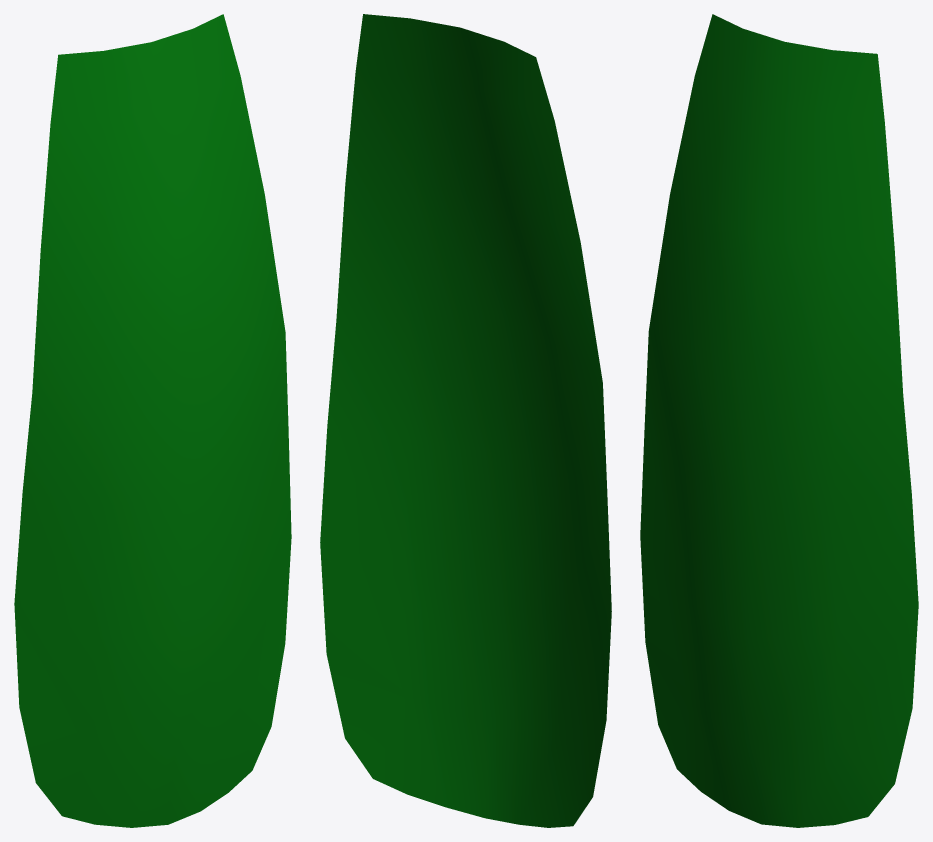
The model's file is MD_nail_square_HandR.Ring.fbx.
3 renders of one model, left to right at view 1: azimuth 30°, elevation 25°; view 2: azimuth 150°, elevation 25°; view 3: azimuth 330°, elevation 25°, orthographic. The views are drawn at different scales.
Visible parts, largest first — view 1: MD_nail_square_HandR.Ring; view 2: MD_nail_square_HandR.Ring; view 3: MD_nail_square_HandR.Ring.
Part boxes in pixels (<box>): MD_nail_square_HandR.Ring: <box>14,14,291,827</box>; MD_nail_square_HandR.Ring: <box>320,14,611,827</box>; MD_nail_square_HandR.Ring: <box>640,14,918,827</box>.
Size of the model in its own units: 0.7183 by 1.9 by 0.1981.
